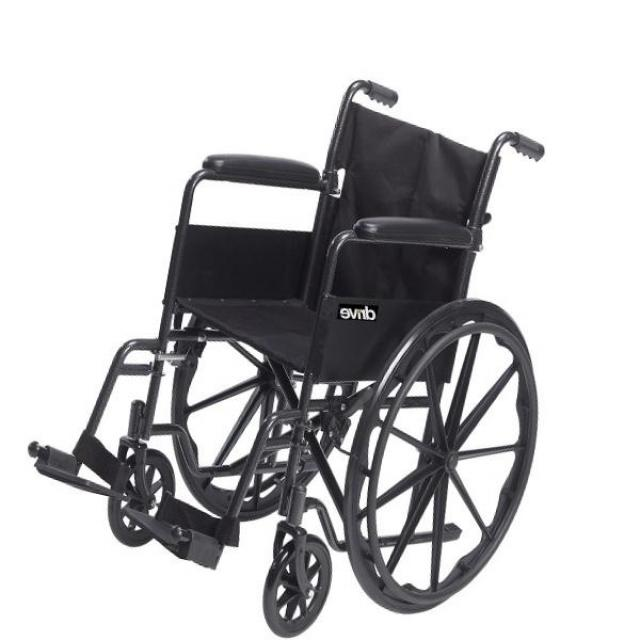wheelchair: (13, 66, 567, 640)
